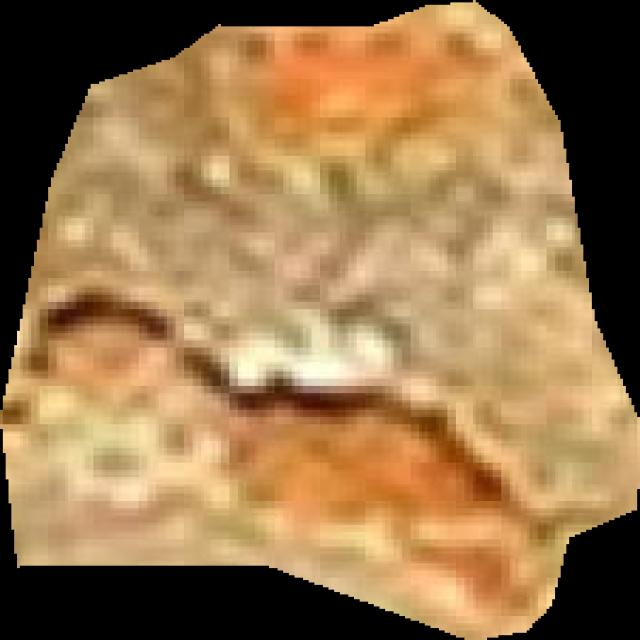Pitting Corrosion: (0, 0, 640, 640)
